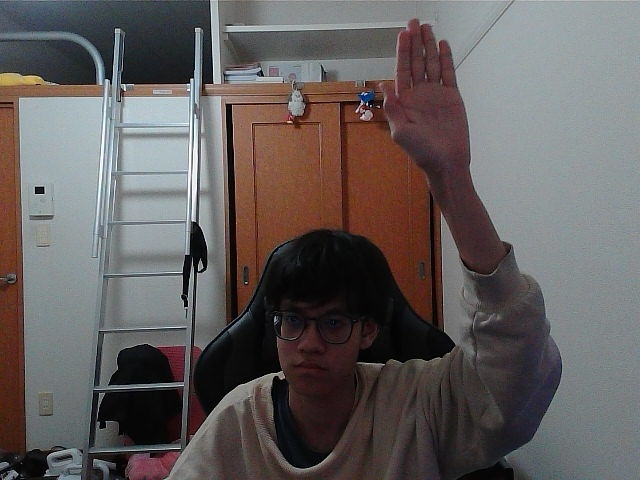open_palm: (385, 24, 452, 161)
